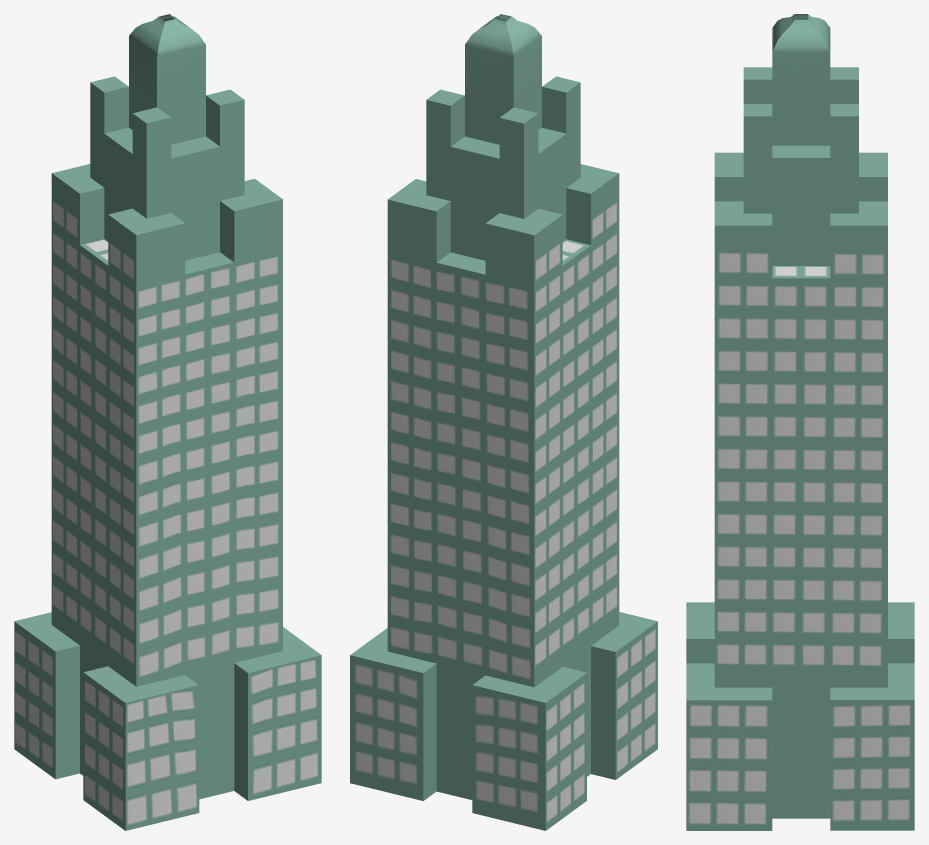
The model's file is esWhole.fbx.
The picture shows the model from 3 angles, left to right: view 1: azimuth 30°, elevation 25°; view 2: azimuth 150°, elevation 25°; view 3: azimuth 270°, elevation 25°; orthographic projection. The views are drawn at different scales.
Parts seen in each view (by area): view 1: EmpireState; view 2: EmpireState; view 3: EmpireState.
Part boxes in pixels (<box>): EmpireState: <box>14,14,321,830</box>; EmpireState: <box>350,14,657,830</box>; EmpireState: <box>686,14,914,830</box>.
Bounding box in the file's own units: 0.13 × 0.4734 × 0.1281.
Materials: 1 (1 with a texture image).
